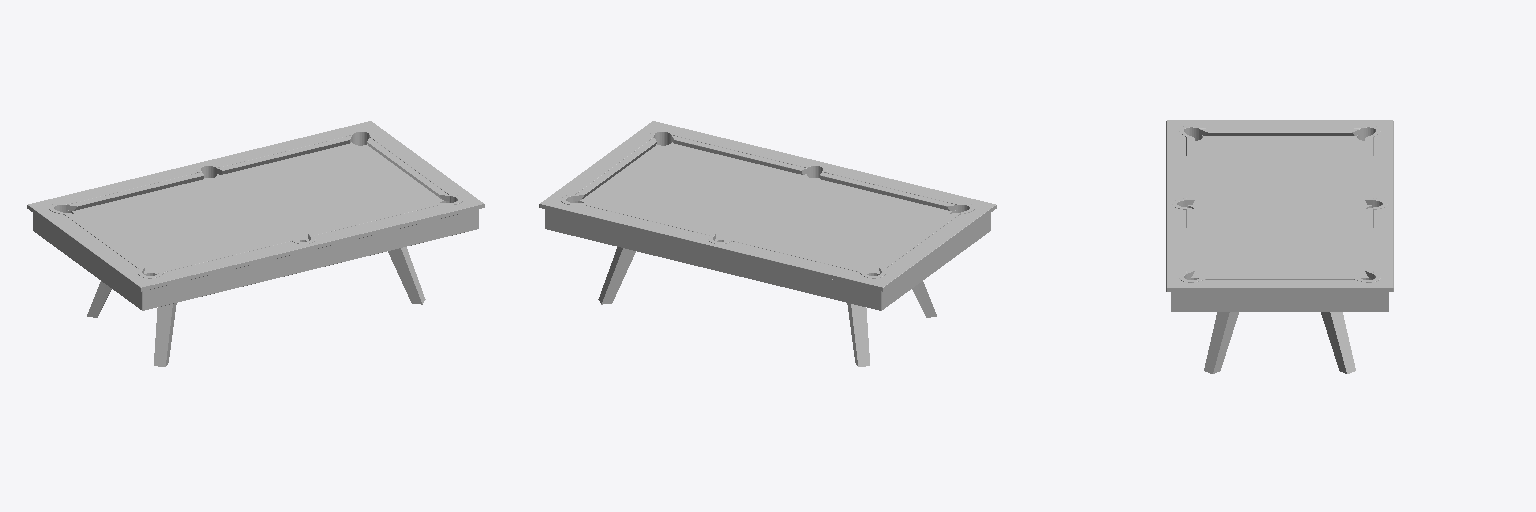
File: Table.obj
The picture shows the model from 3 angles: view 1: azimuth 30°, elevation 25°; view 2: azimuth 150°, elevation 25°; view 3: azimuth 270°, elevation 25°; orthographic projection.
Visible parts, largest first — view 1: Table_Plane.004; view 2: Table_Plane.004; view 3: Table_Plane.004.
Boxes of the visible parts, <box> form: Table_Plane.004: <box>27,121,484,366</box>; Table_Plane.004: <box>539,121,996,366</box>; Table_Plane.004: <box>1166,120,1393,373</box>.
Size of the model in its own units: 13.07 by 3.8 by 7.48.